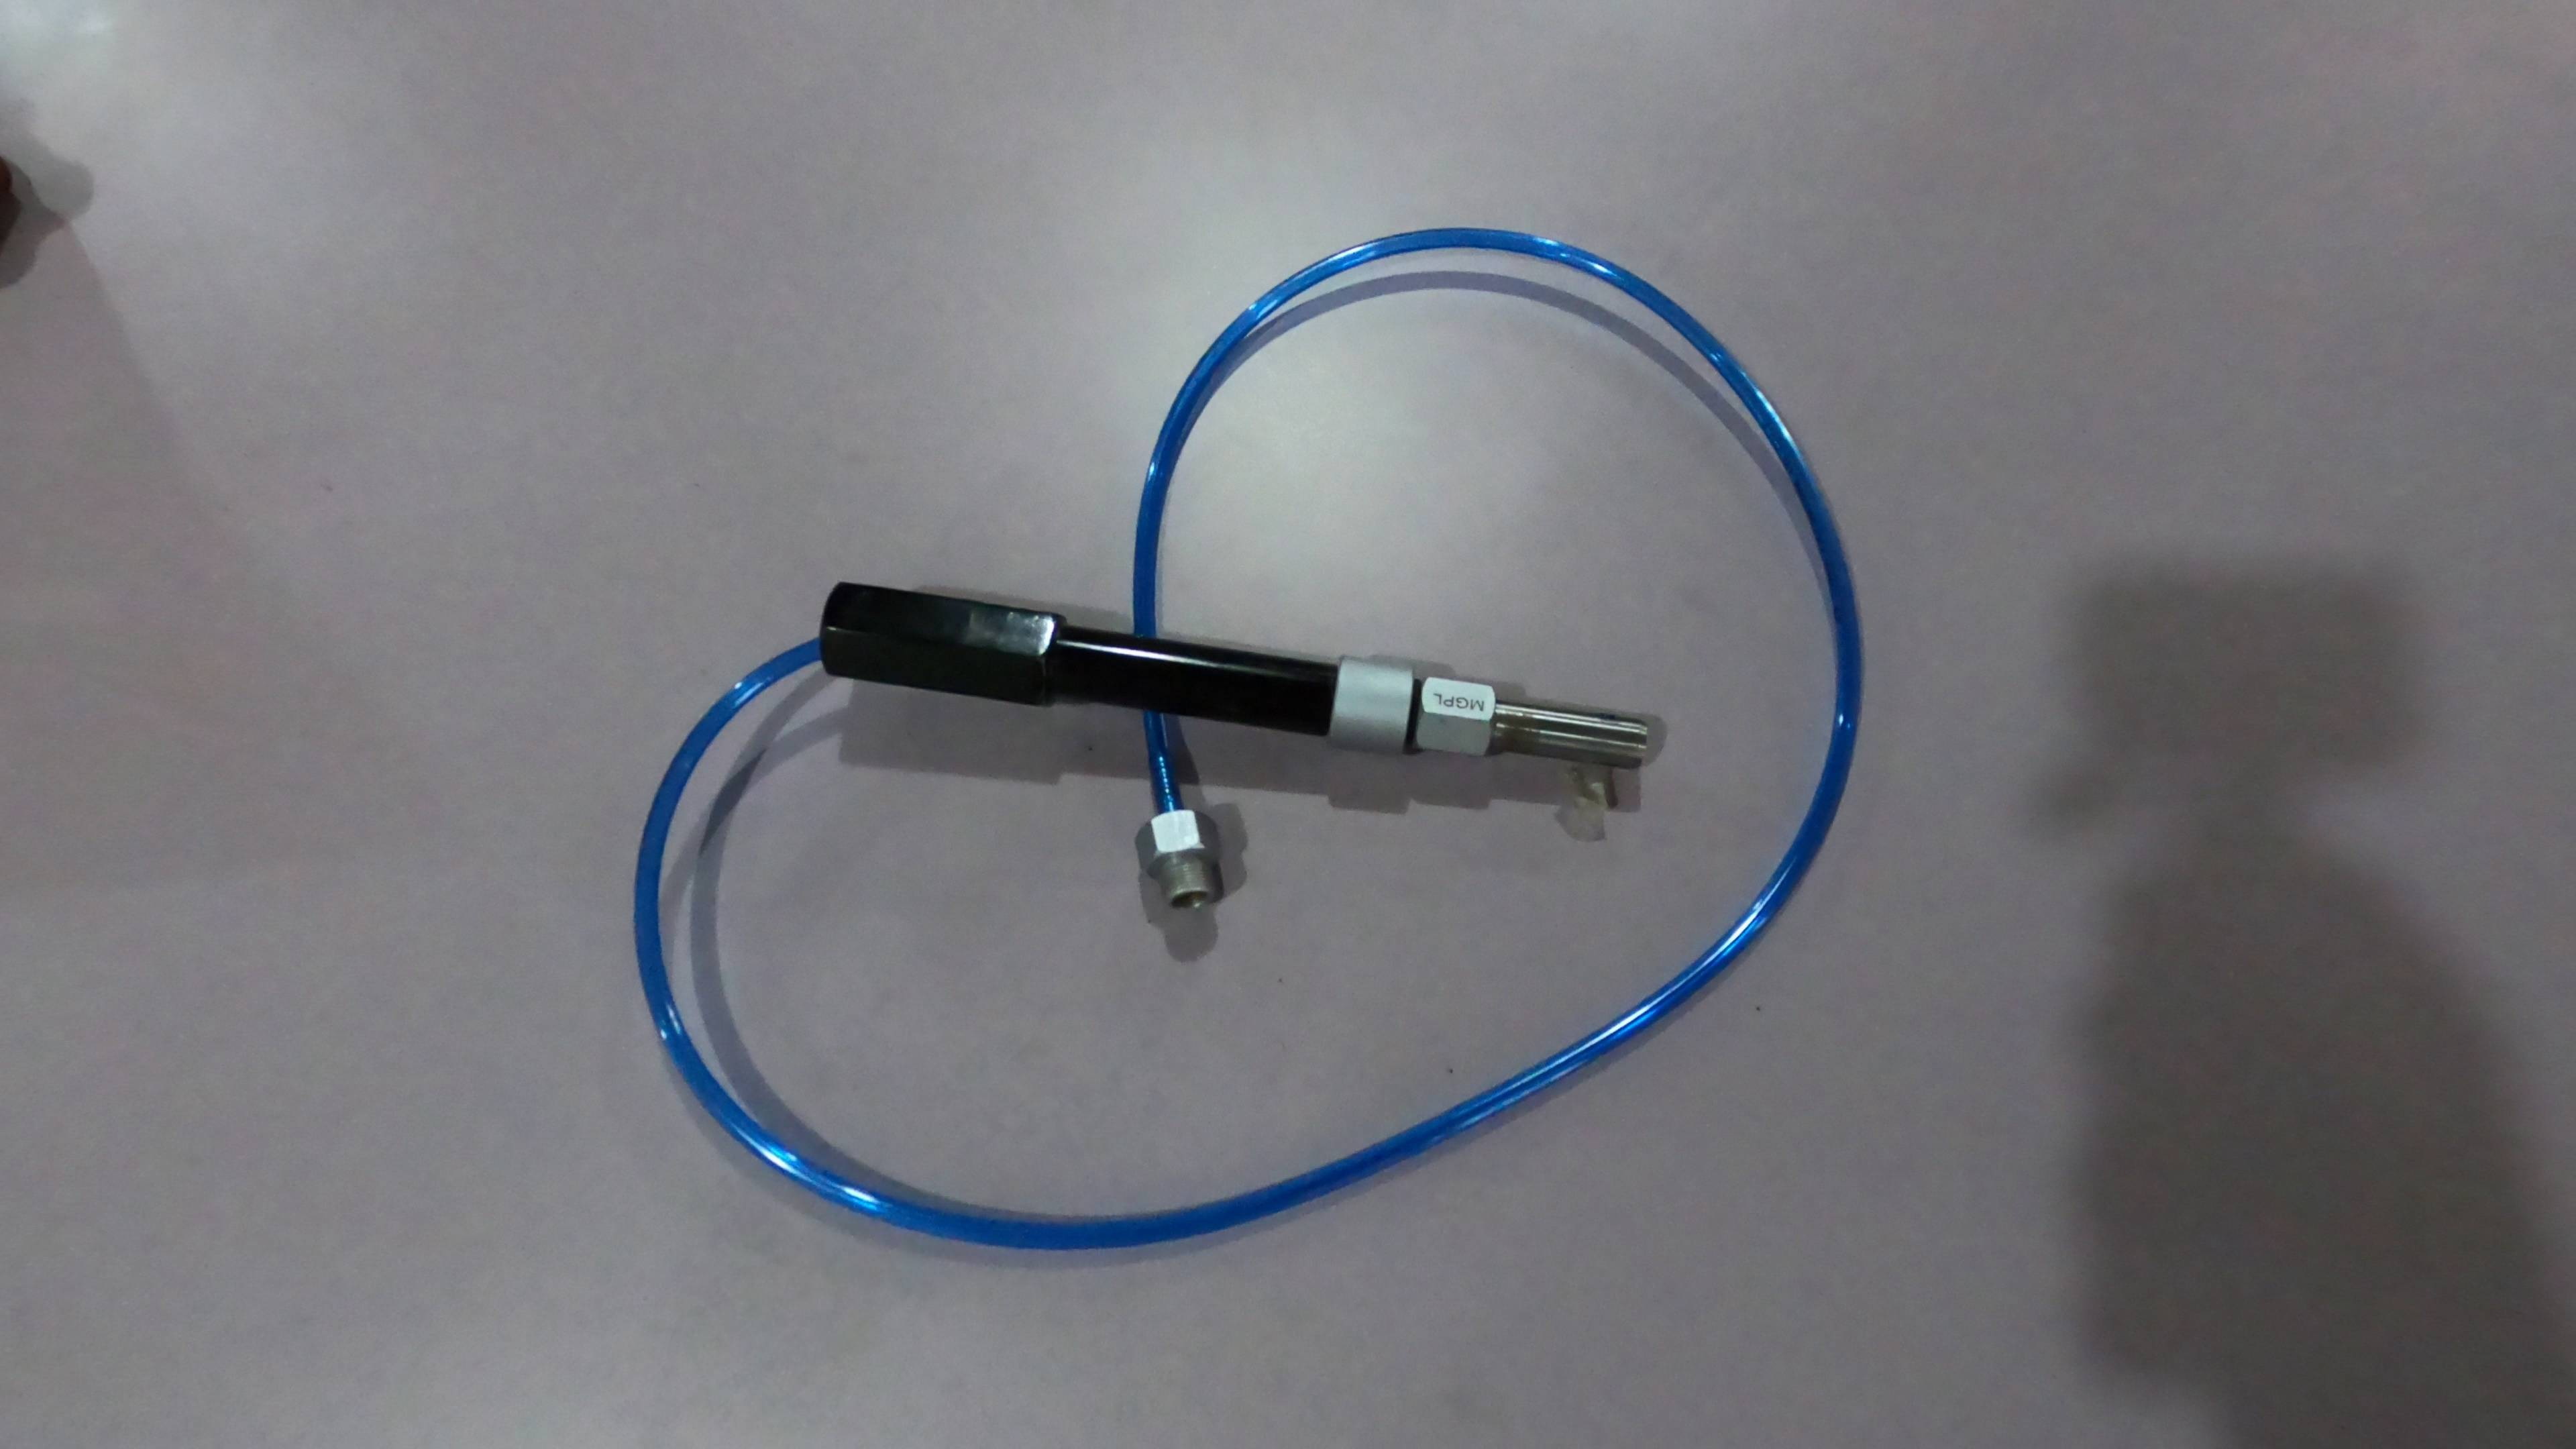air_gauge: (828, 563, 1652, 786)
